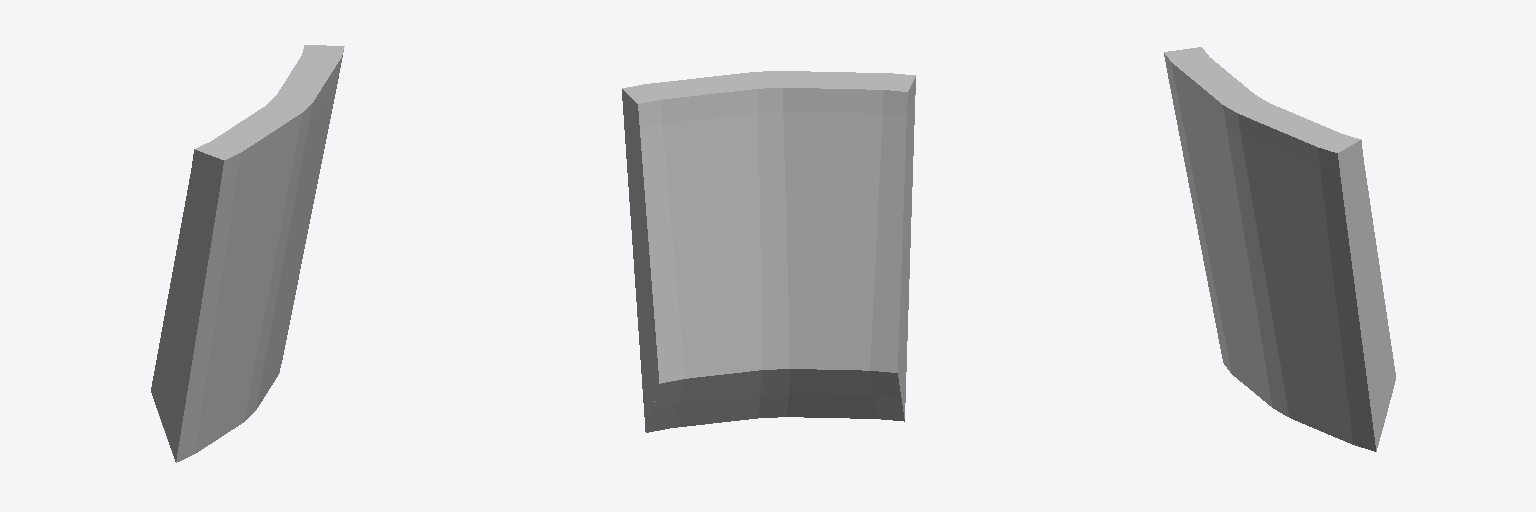
File: obj_glass_door.obj
3 renders of one model, left to right at view 1: azimuth 30°, elevation 25°; view 2: azimuth 150°, elevation 25°; view 3: azimuth 270°, elevation 25°, orthographic.
Visible parts, largest first — view 1: pCylinder1; view 2: pCylinder1; view 3: pCylinder1.
Part boxes in pixels (x1,y1,x2,y2): pCylinder1: (151, 45, 344, 462); pCylinder1: (622, 71, 915, 432); pCylinder1: (1164, 47, 1395, 451).
Size of the model in its own units: 0.7183 by 0.9343 by 0.6159.